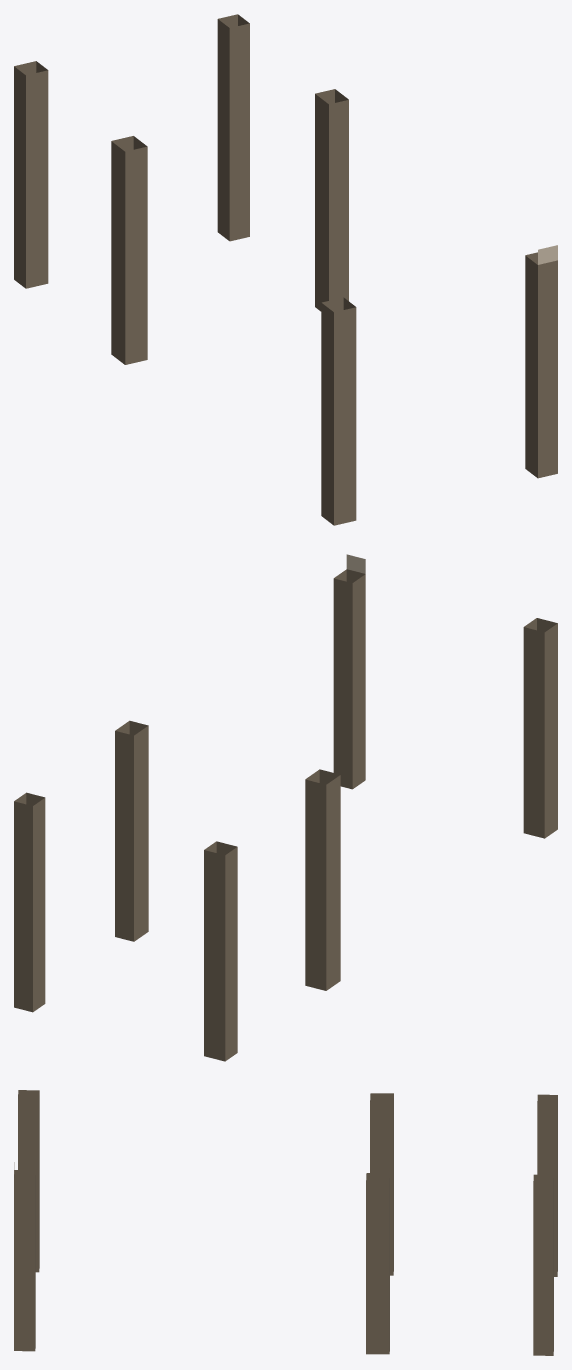
Rendered from object_2_lev1.glb.
The picture shows the model from 3 angles, top to bottom: view 1: azimuth 30°, elevation 25°; view 2: azimuth 150°, elevation 25°; view 3: azimuth 270°, elevation 25°; orthographic projection. The views are drawn at different scales.
Parts seen in each view (by area): view 1: object_2_lev1; view 2: object_2_lev1; view 3: object_2_lev1.
Boxes of the visible parts, <box> form: object_2_lev1: <box>14,14,557,525</box>; object_2_lev1: <box>14,554,557,1061</box>; object_2_lev1: <box>14,1090,557,1355</box>.
Bounding box in the file's own units: 6.17 × 5.78 × 15.34.
1 material, 1 textured.
